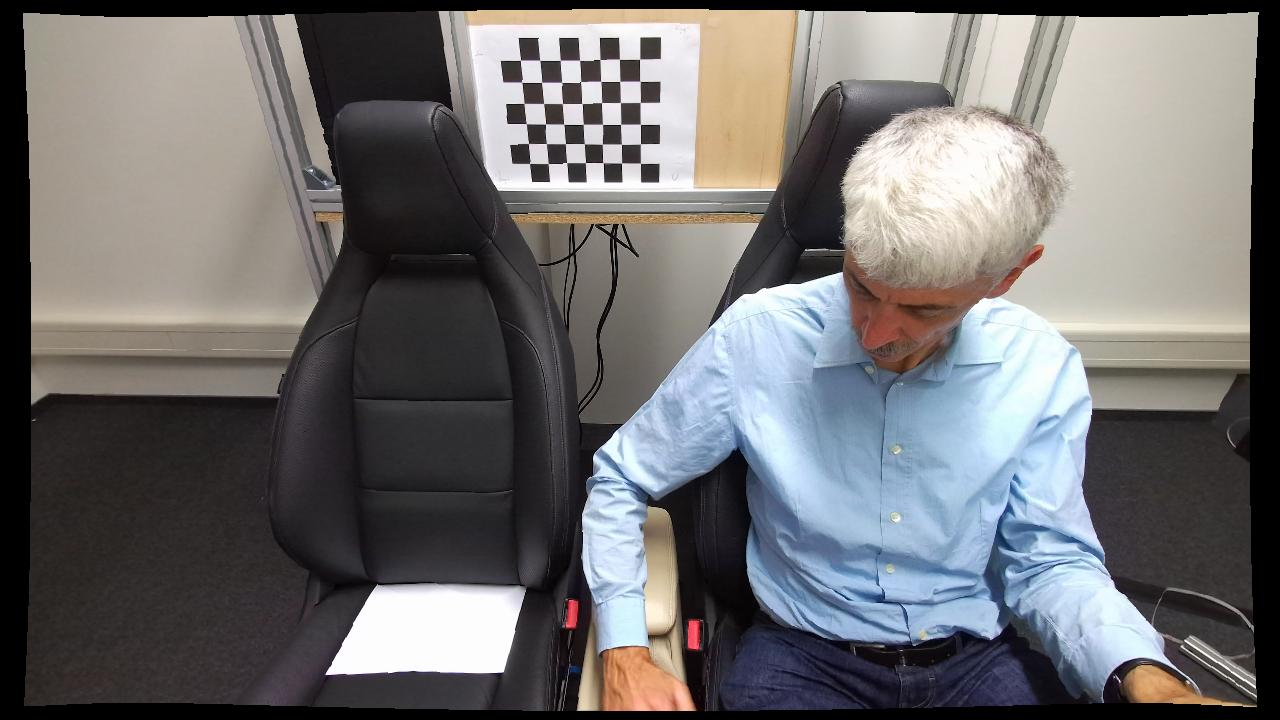Distracted: (586, 101, 1108, 709)
